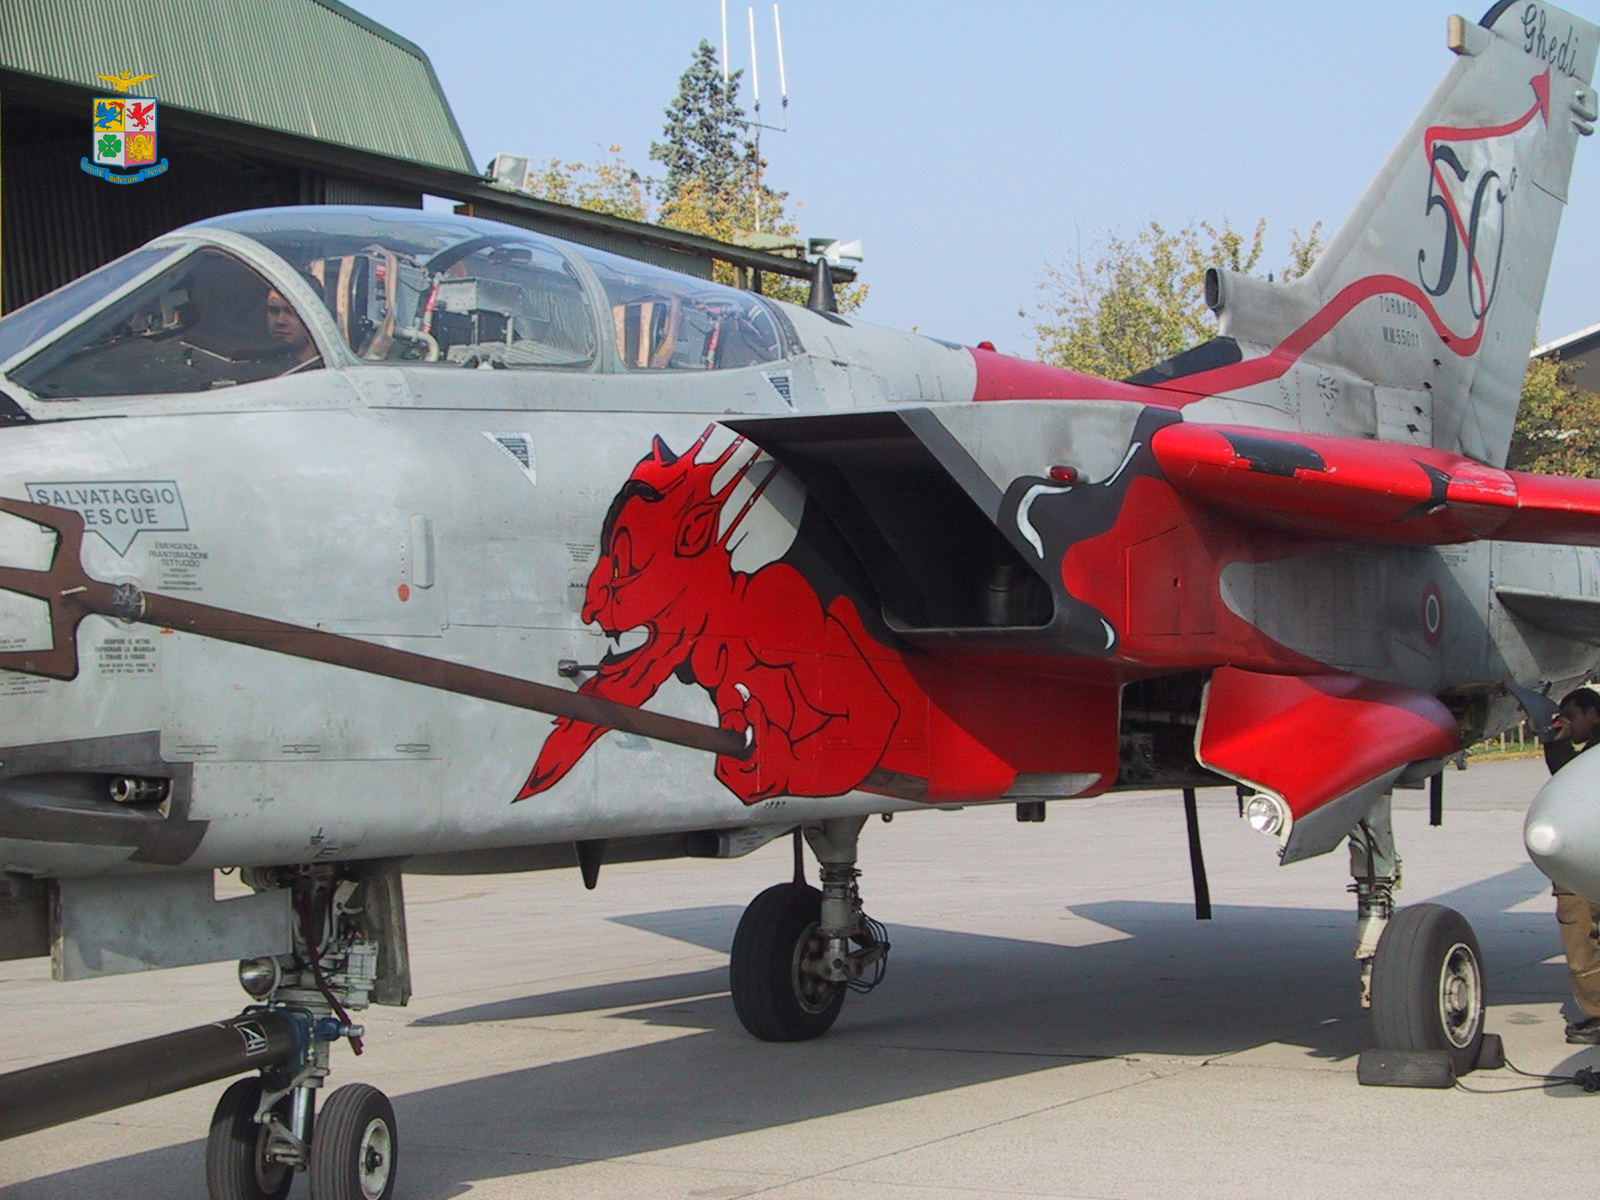Tornado: (1, 1, 1600, 1200)
